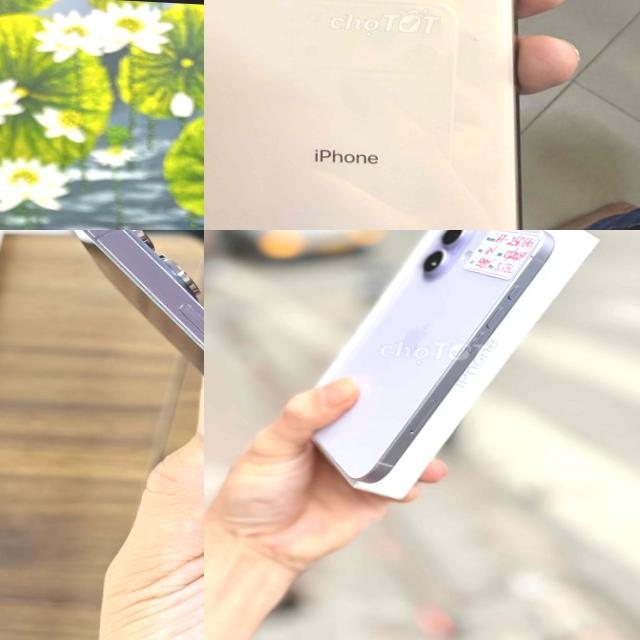gen_14: (36, 230, 204, 620)
gen_17: (299, 230, 557, 502)
gen_x_xs: (204, 0, 521, 230)
